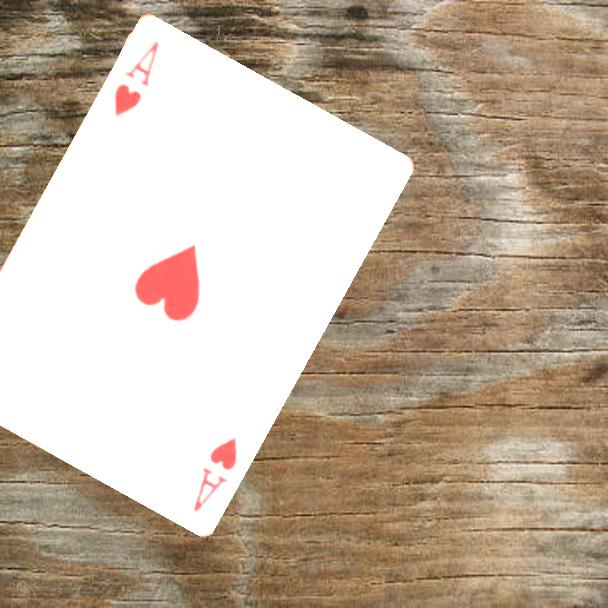h01: (110, 37, 162, 118), (189, 433, 240, 515)
